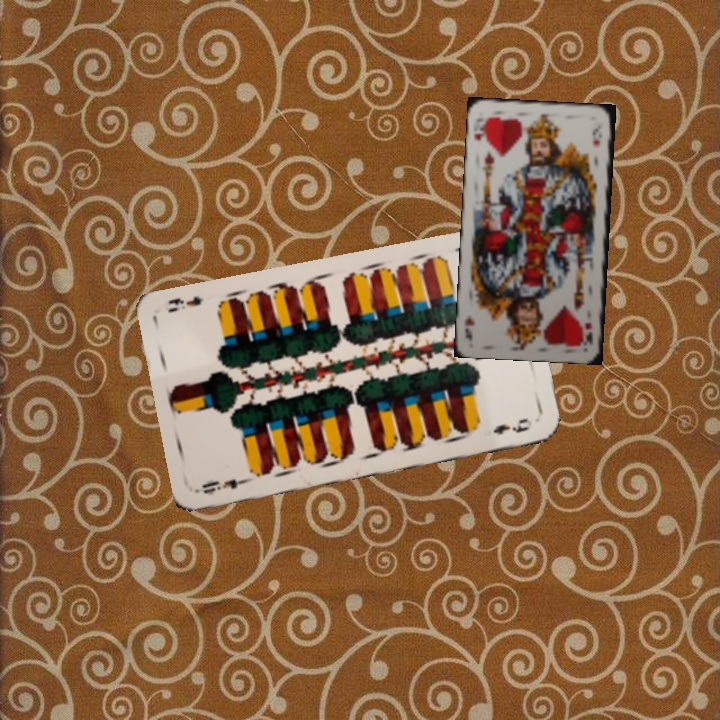E9: (194, 474, 253, 497)
HK: (470, 113, 489, 146), (581, 318, 596, 348)
